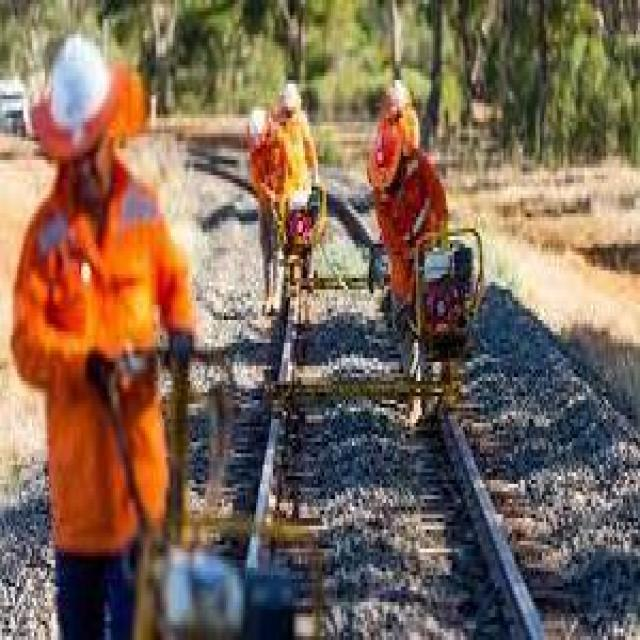Reflective-Jacket: (13, 179, 188, 556), (365, 134, 450, 312)
Safety-Helmet: (22, 23, 136, 171), (367, 72, 422, 156)
